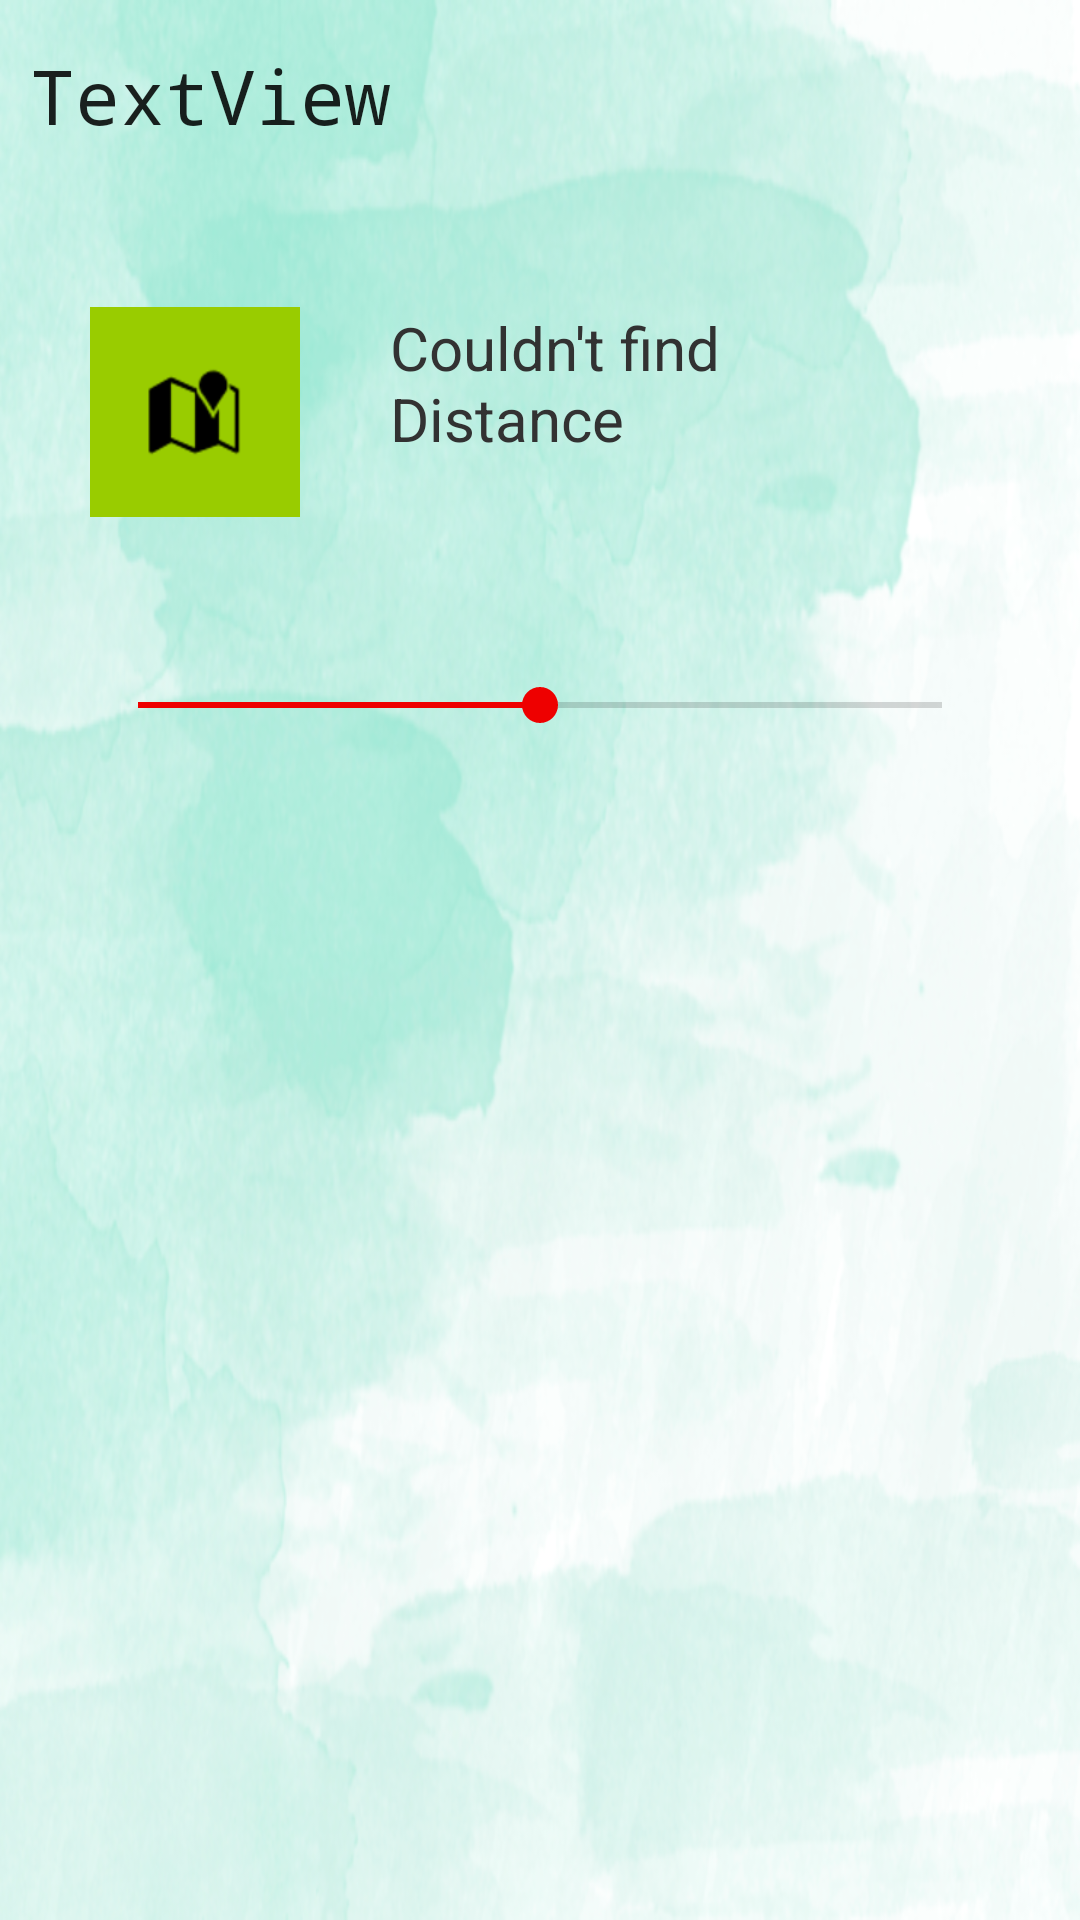

Where to tap for icons on this 1080w x 1920h app screen, as point (x, y):
map: point (195, 412)
